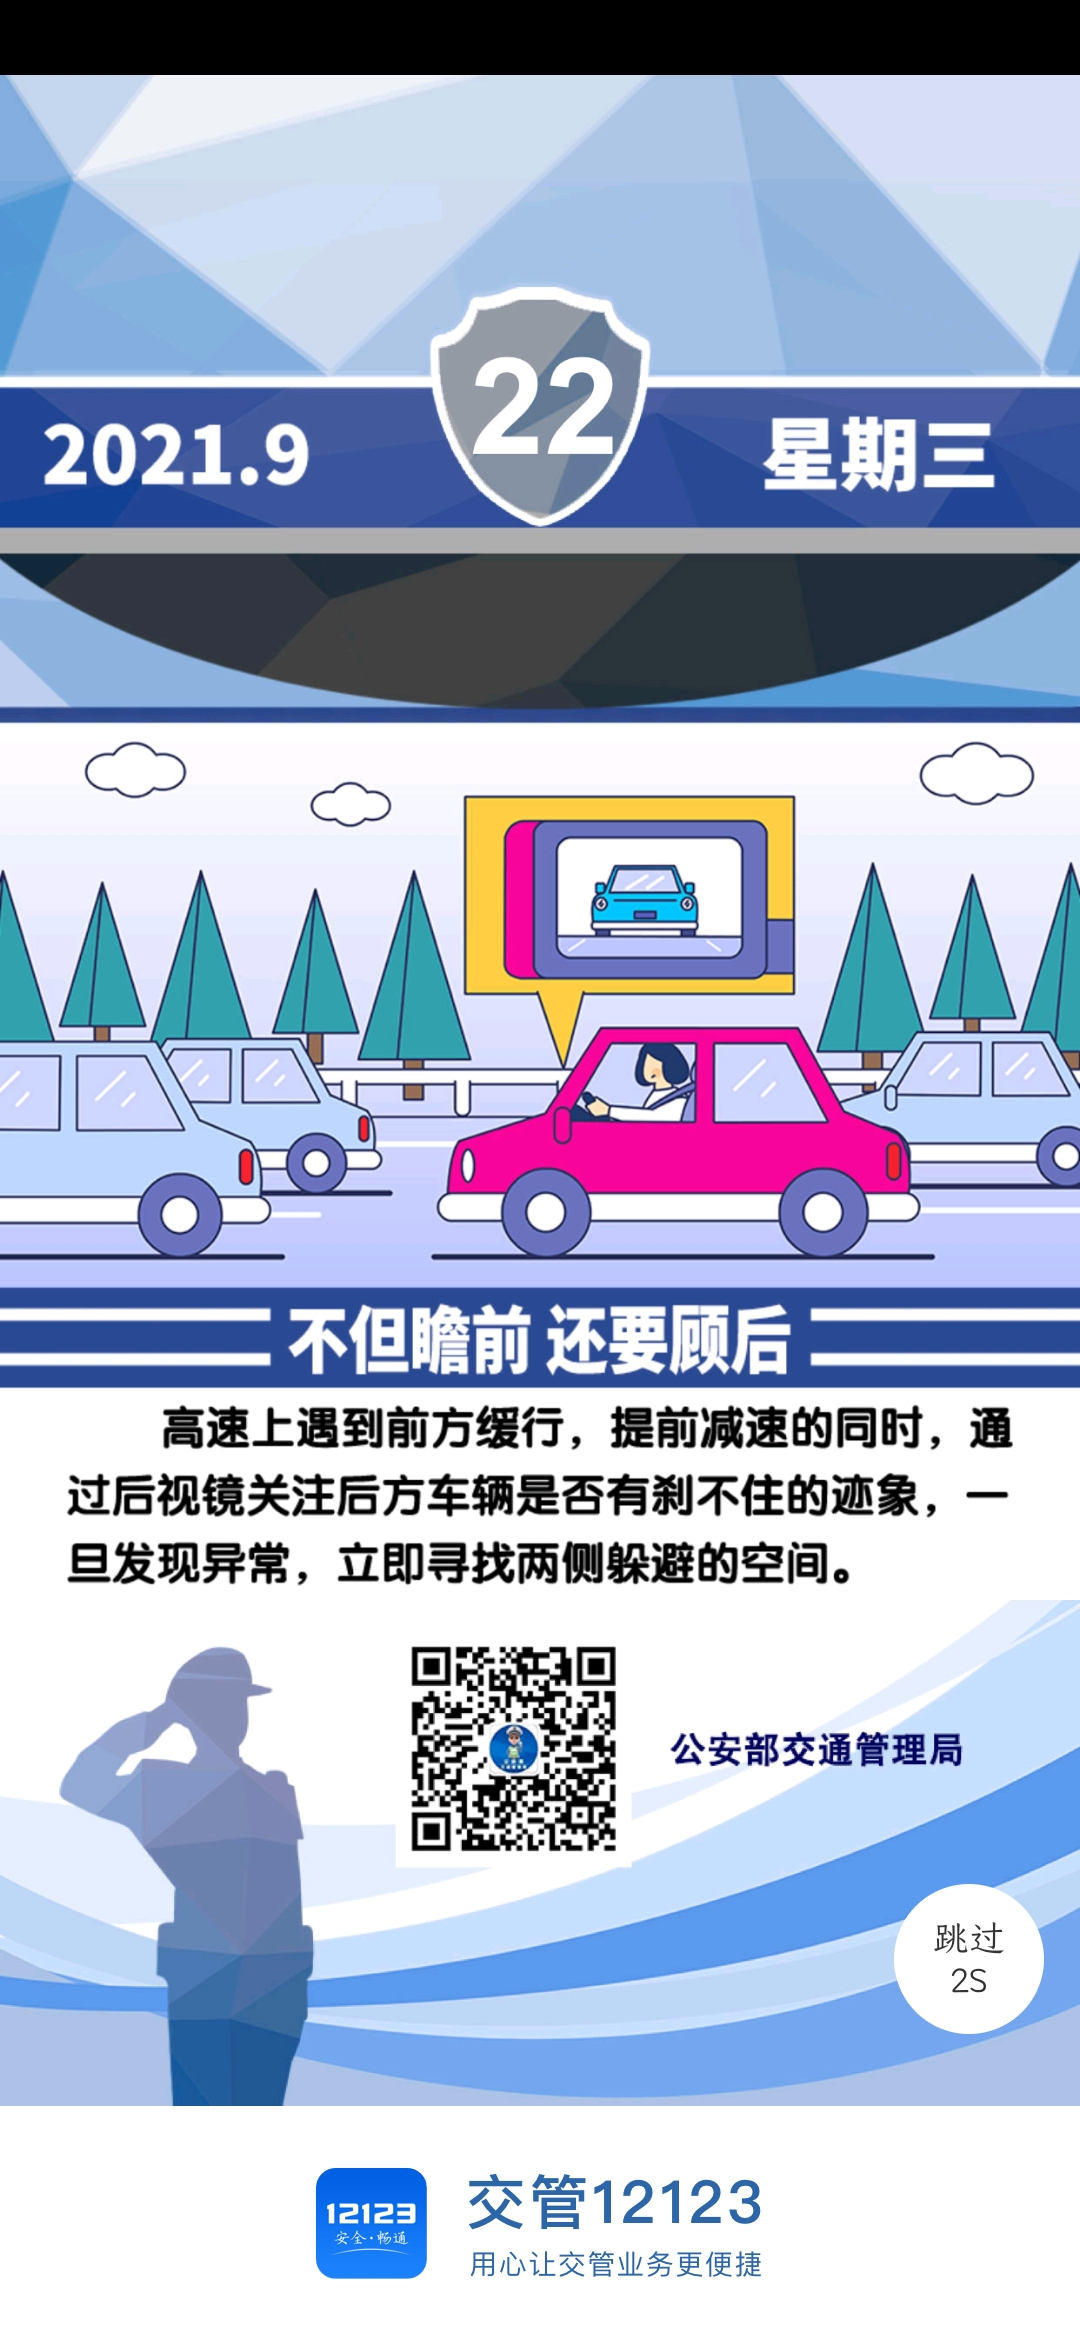skip: (917, 1891, 1013, 2013)
